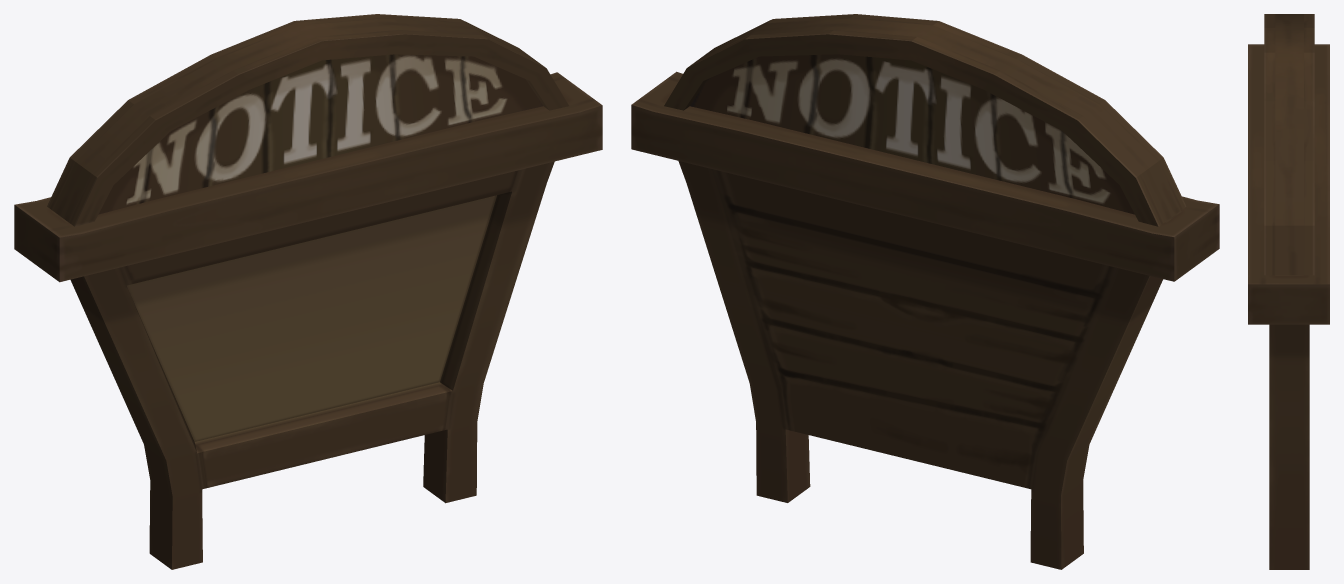
File: QuestBoardA.fbx
The picture shows the model from 3 angles, left to right: view 1: azimuth 30°, elevation 25°; view 2: azimuth 150°, elevation 25°; view 3: azimuth 270°, elevation 25°; orthographic projection. The views are drawn at different scales.
Visible parts, largest first — view 1: QuestBoardA_001; view 2: QuestBoardA_001; view 3: QuestBoardA_001.
Boxes of the visible parts, x1,y1,x2,y2 form: QuestBoardA_001: (14, 14, 602, 569); QuestBoardA_001: (631, 14, 1219, 569); QuestBoardA_001: (1248, 14, 1329, 569).
Size of the model in its own units: 171 by 149 by 24.68.
